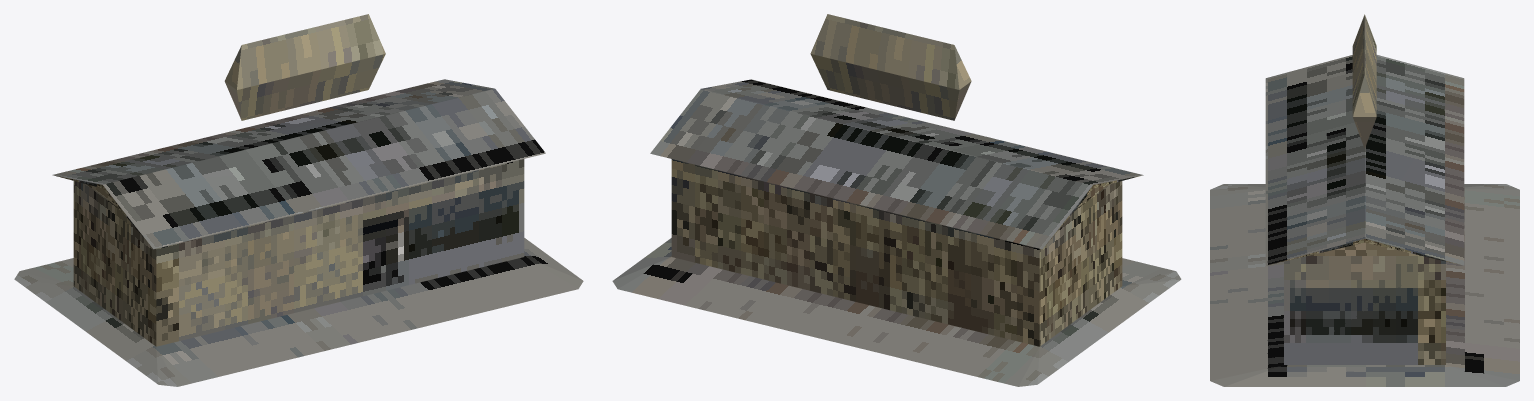
File: cw_fuelpay_lod.obj
The picture shows the model from 3 angles, left to right: view 1: azimuth 30°, elevation 25°; view 2: azimuth 150°, elevation 25°; view 3: azimuth 270°, elevation 25°; orthographic projection. The views are drawn at different scales.
Parts seen in each view (by area): view 1: cw_fuelpay_LOD; view 2: cw_fuelpay_LOD; view 3: cw_fuelpay_LOD.
Boxes of the visible parts, x1,y1,x2,y2 form: cw_fuelpay_LOD: (14,14,583,386); cw_fuelpay_LOD: (612,14,1181,386); cw_fuelpay_LOD: (1210,14,1519,386).
Bounding box in the file's own units: 10.4 × 5.82 × 6.7.
Materials: 1 (1 with a texture image).
